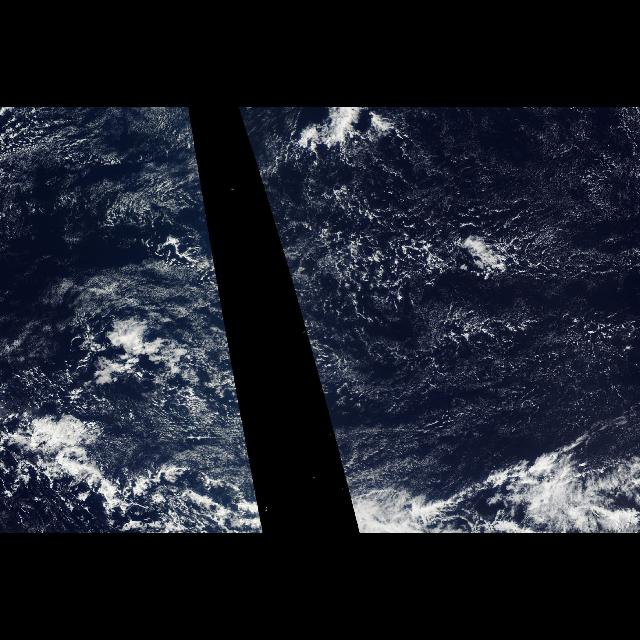Gravel: (291, 123, 639, 429)
Sugar: (272, 111, 640, 431), (110, 258, 212, 318)
